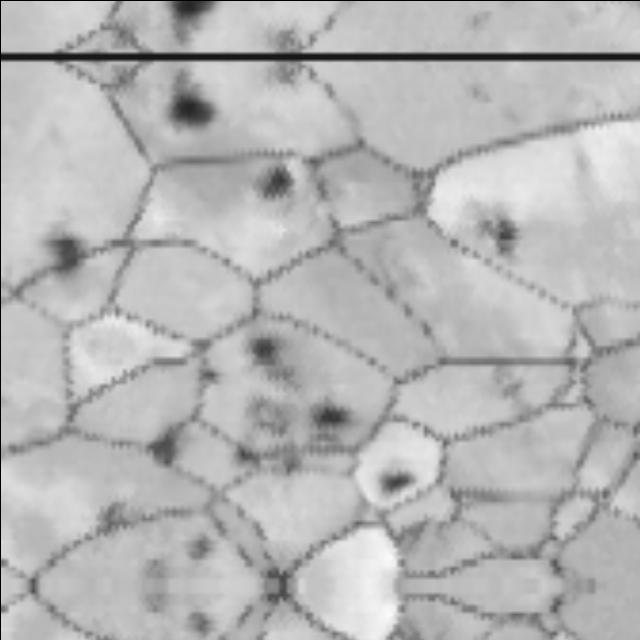good_void: (233, 317, 309, 402), (237, 390, 299, 444), (260, 46, 312, 98), (260, 12, 312, 64), (165, 89, 222, 126), (480, 364, 532, 402), (247, 164, 296, 204), (485, 211, 519, 261), (147, 426, 187, 466), (40, 235, 88, 267), (271, 438, 304, 476), (313, 398, 353, 428), (224, 433, 257, 466), (168, 0, 221, 19), (380, 464, 417, 491), (194, 362, 222, 385), (96, 499, 117, 526), (193, 537, 209, 553), (193, 616, 209, 632)
